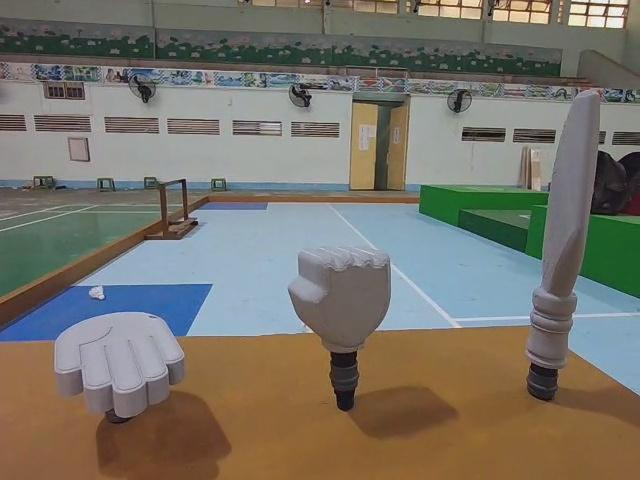Fist: (289, 244, 393, 410)
Hand: (56, 308, 189, 430)
Sph: (523, 98, 598, 412)
